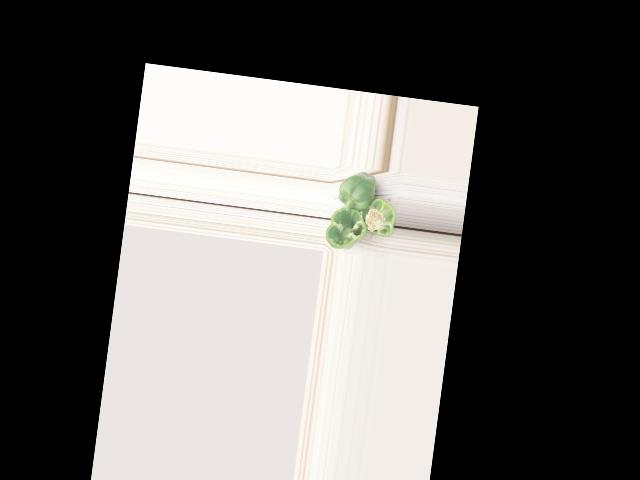bell_pepper: (359, 193, 398, 245)
